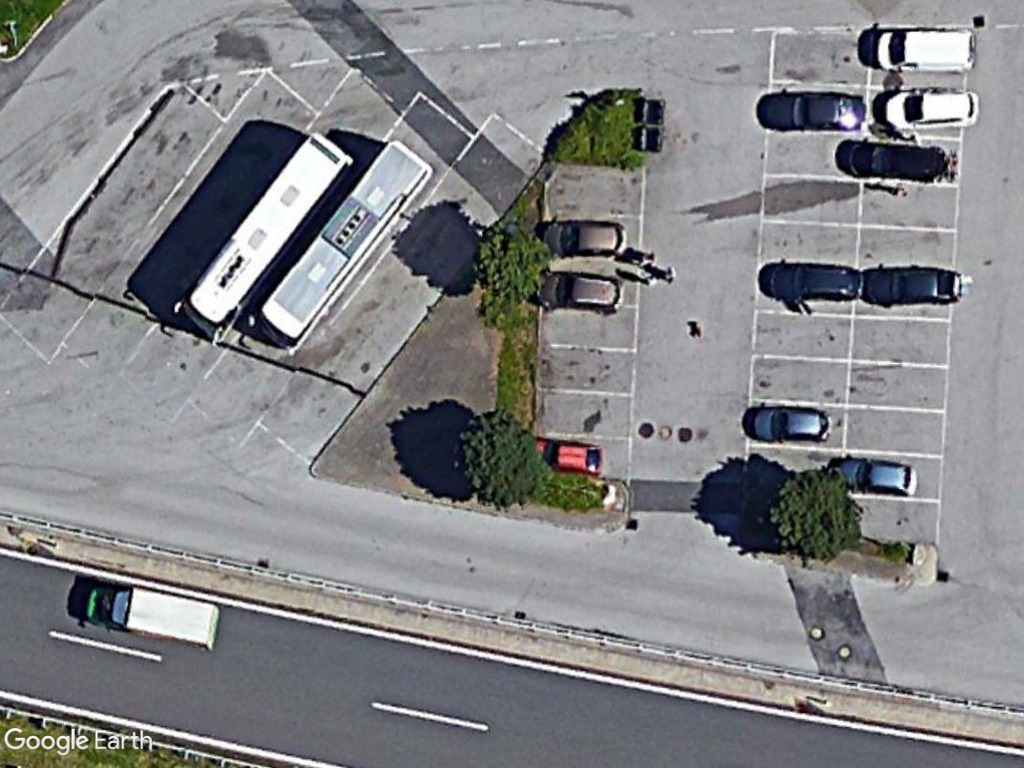bus: (255, 131, 435, 351), (182, 125, 359, 346)
car: (758, 259, 866, 310), (877, 83, 987, 132), (758, 90, 873, 135), (858, 262, 968, 309), (743, 401, 839, 448)
truck: (80, 585, 227, 652)
van: (867, 23, 984, 77)
